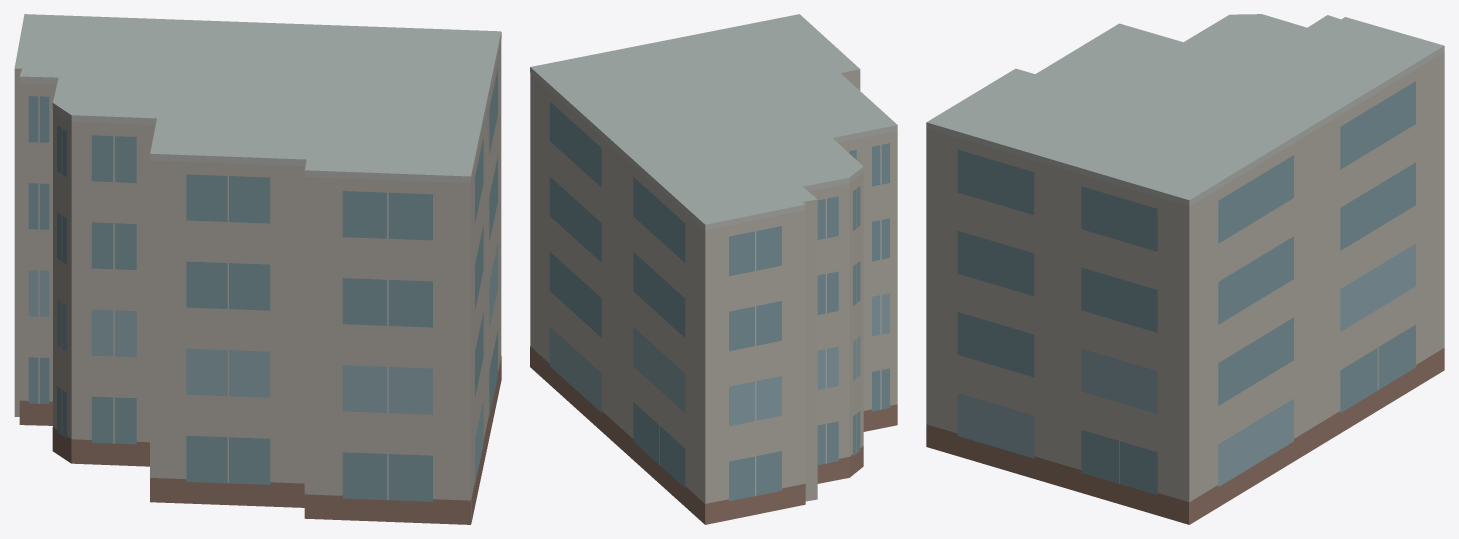
Rendered from survey-upis-32607608.glb.
3 views of the same model, side by side, from view 1: azimuth 30°, elevation 25°; view 2: azimuth 150°, elevation 25°; view 3: azimuth 270°, elevation 25° (orthographic). The views are drawn at different scales.
Parts seen in each view (by area): view 1: survey-upis-32607608.tmp; view 2: survey-upis-32607608.tmp; view 3: survey-upis-32607608.tmp.
Boxes of the visible parts, x1=… form: survey-upis-32607608.tmp: x1=14, y1=14, x2=501, y2=524; survey-upis-32607608.tmp: x1=530, y1=14, x2=897, y2=524; survey-upis-32607608.tmp: x1=926, y1=14, x2=1444, y2=524.
Bounding box in the file's own units: 15.76 × 12.8 × 18.53.
